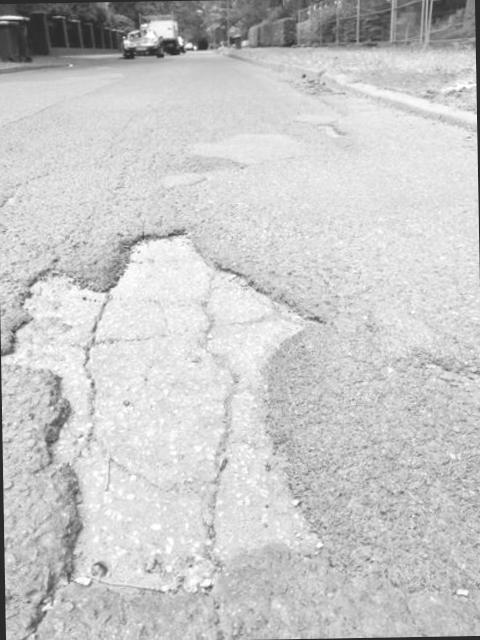Pothole: (5, 223, 336, 597)
